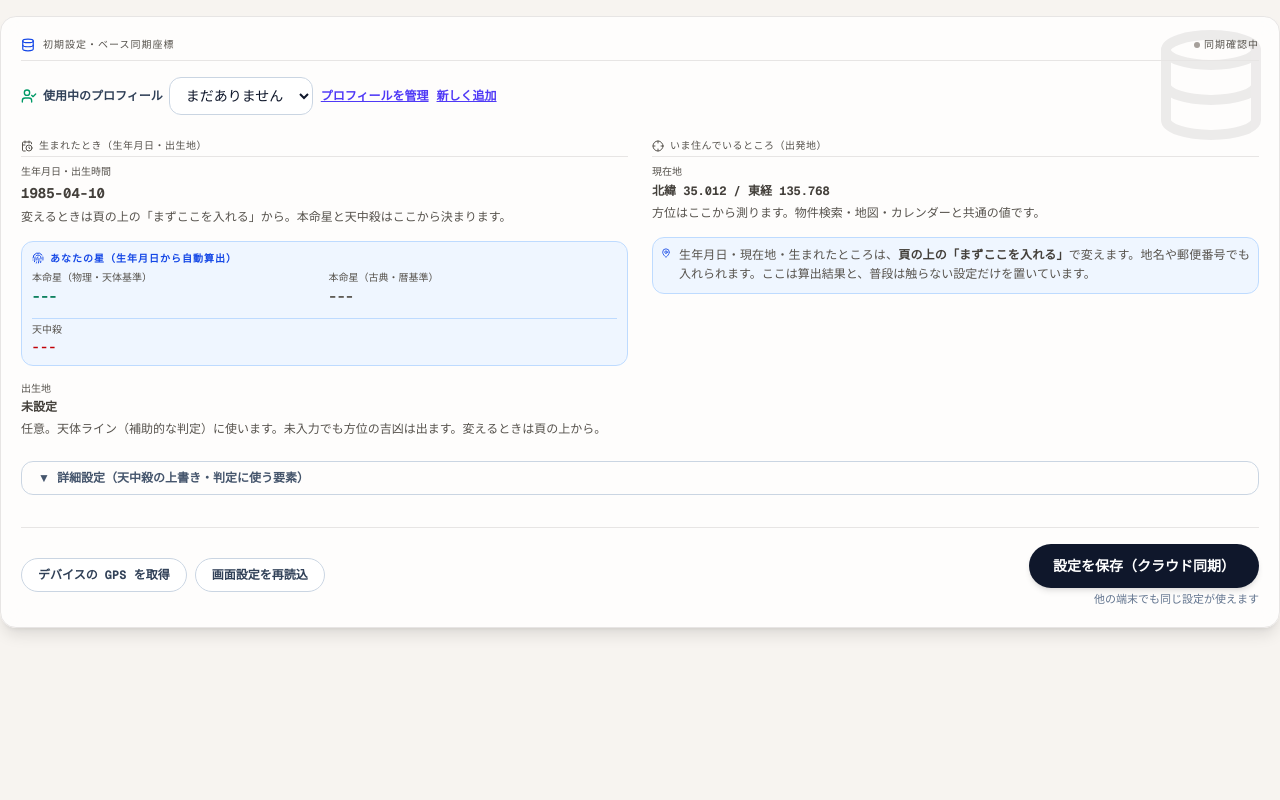
it: 詳細設定を開いても、体調の基準値と API キーは出ない
This screenshot has width=1280, height=800.
What coordinates should you click on to do the following:
click the button "▼ 詳細設定（天中殺の上書き・判定に使う要素）"
I would click on:
 (174, 478)
Its box is [21,461,1259,495].
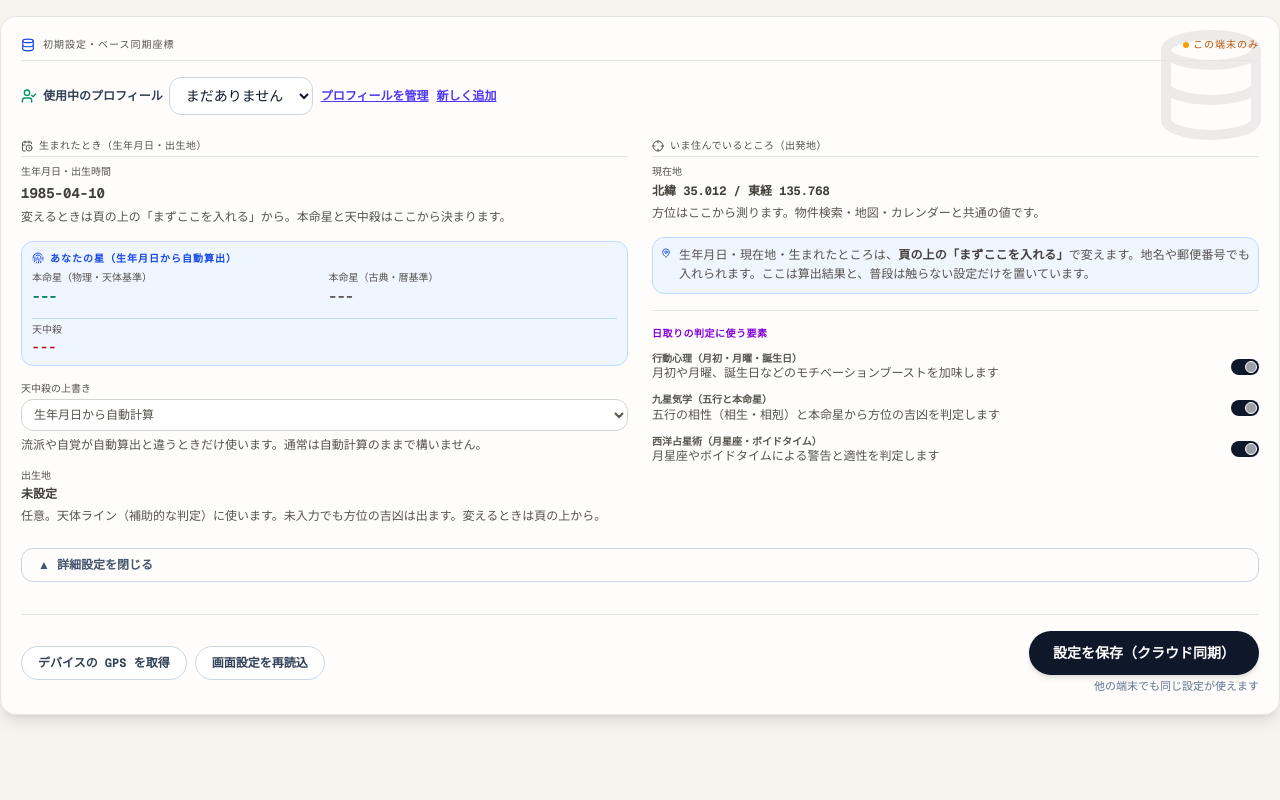
Now the button "▲ 詳細設定を閉じる" is expanded, box [21,548,1259,582]
